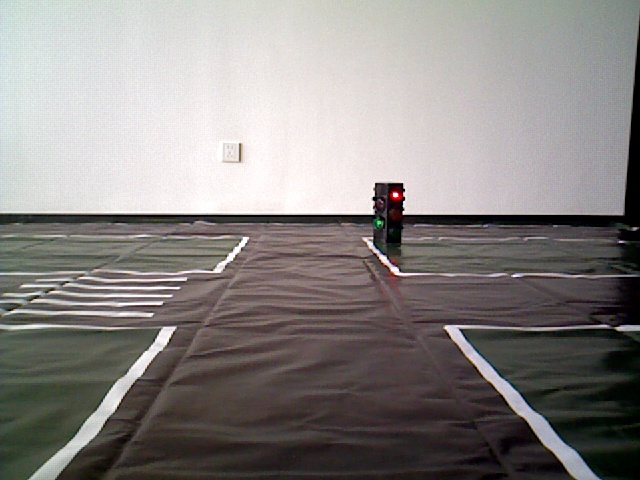red: (376, 184, 403, 249)
